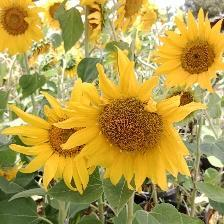sunflower: (80, 85, 175, 181), (19, 94, 94, 192), (155, 10, 224, 90), (1, 1, 48, 54), (85, 1, 106, 46), (117, 1, 147, 32), (43, 1, 69, 31)
